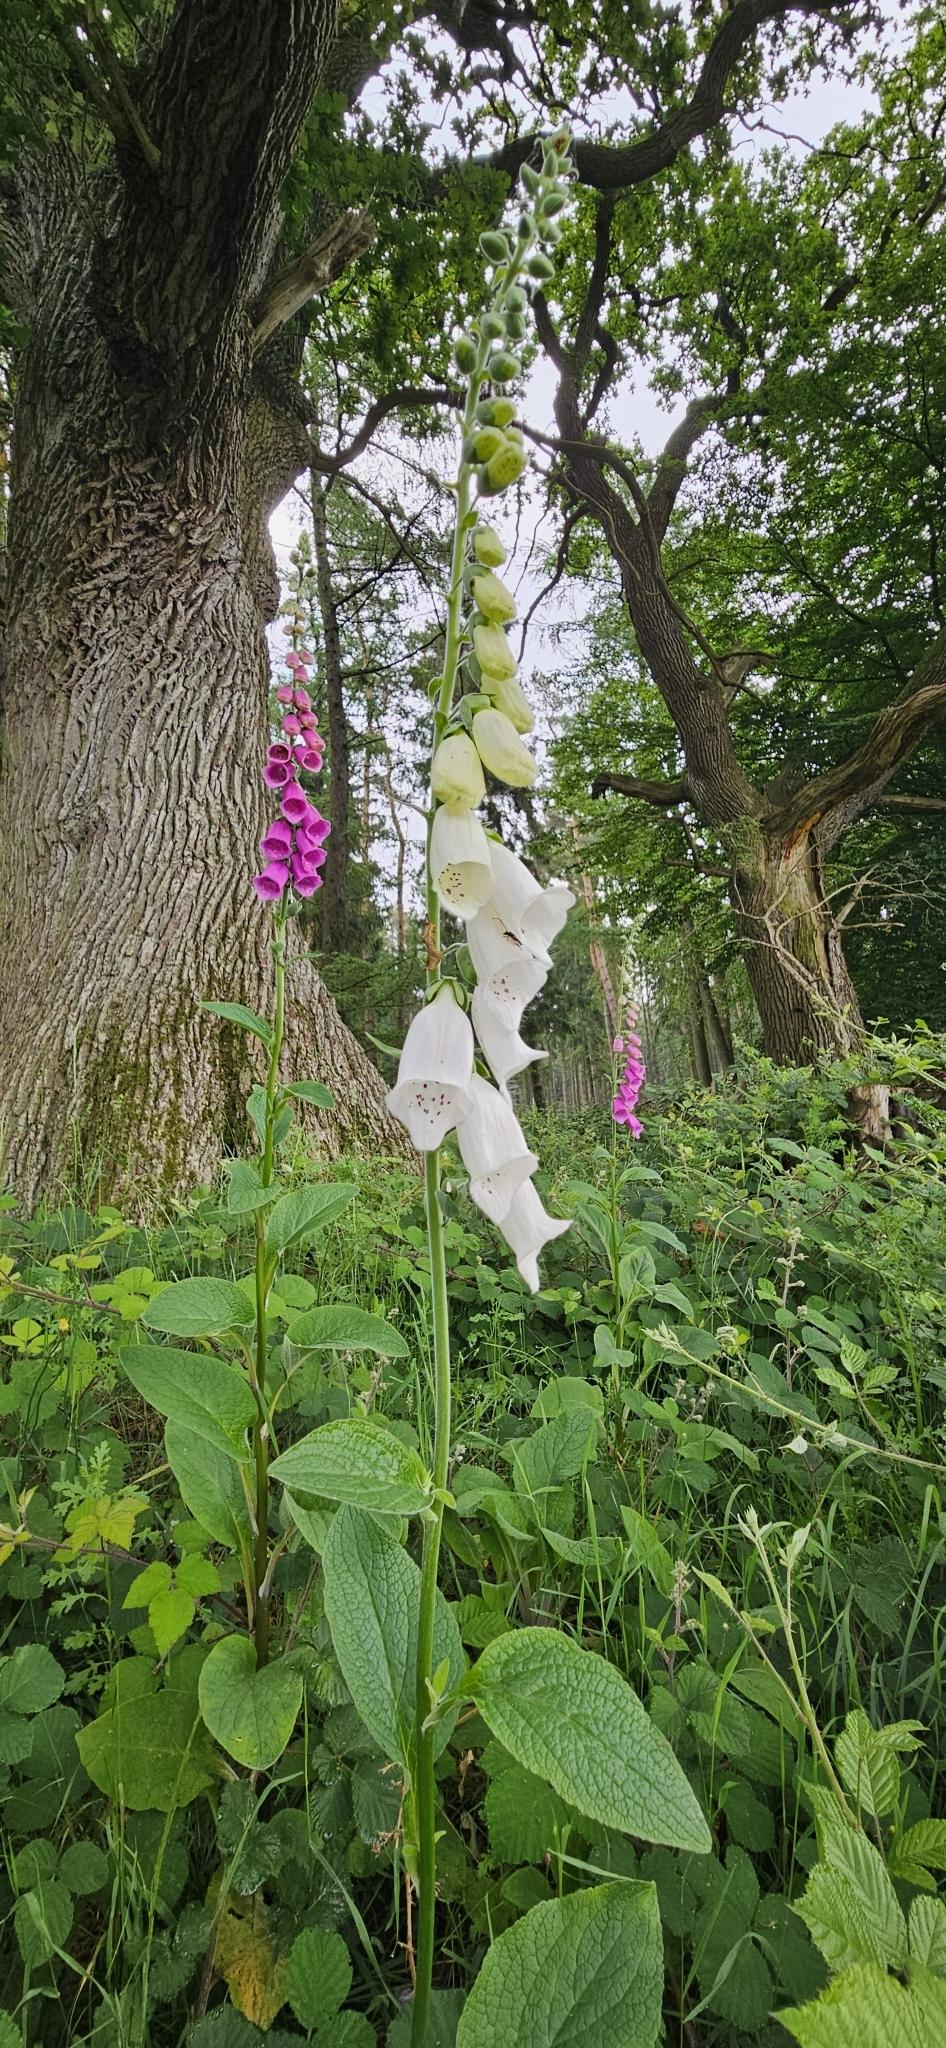Digitalis L: (348, 148, 596, 1980), (159, 536, 350, 1742), (564, 904, 670, 1524)
